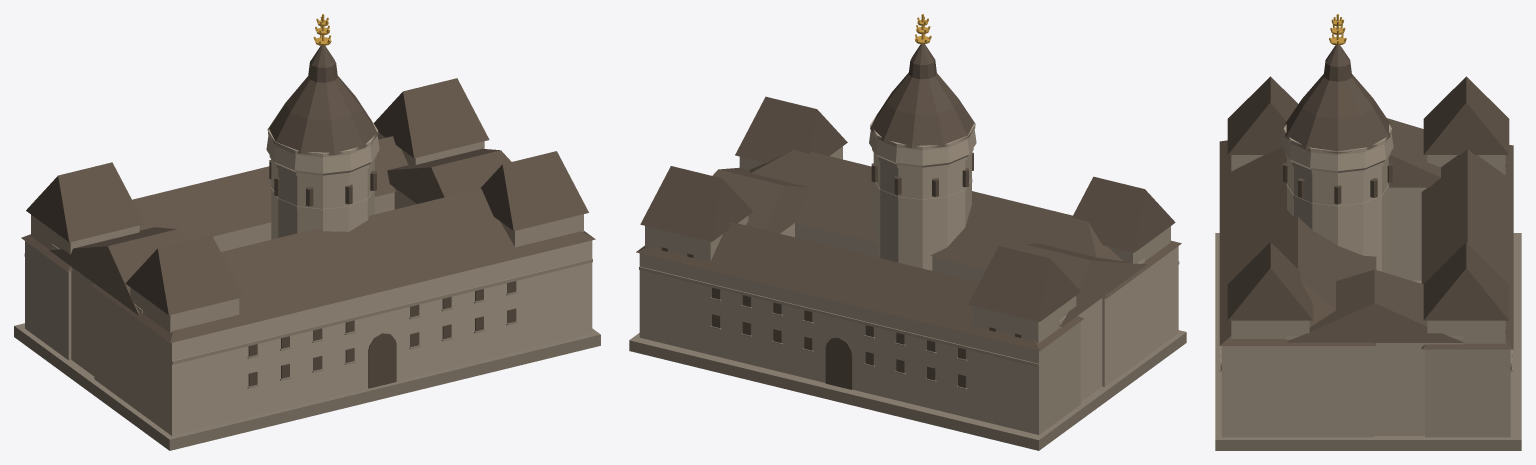
Rendered from tre-kronor-castle.glb.
3 views of the same model, side by side, from view 1: azimuth 30°, elevation 25°; view 2: azimuth 150°, elevation 25°; view 3: azimuth 270°, elevation 25° (orthographic). The views are drawn at different scales.
Visible parts, largest first — view 1: structure; view 2: structure; view 3: structure.
Boxes of the visible parts, x1,y1,x2,y2 form: structure: (14, 14, 600, 450); structure: (629, 14, 1186, 450); structure: (1215, 14, 1521, 450).
Bounding box in the file's own units: 80 × 60 × 50.
